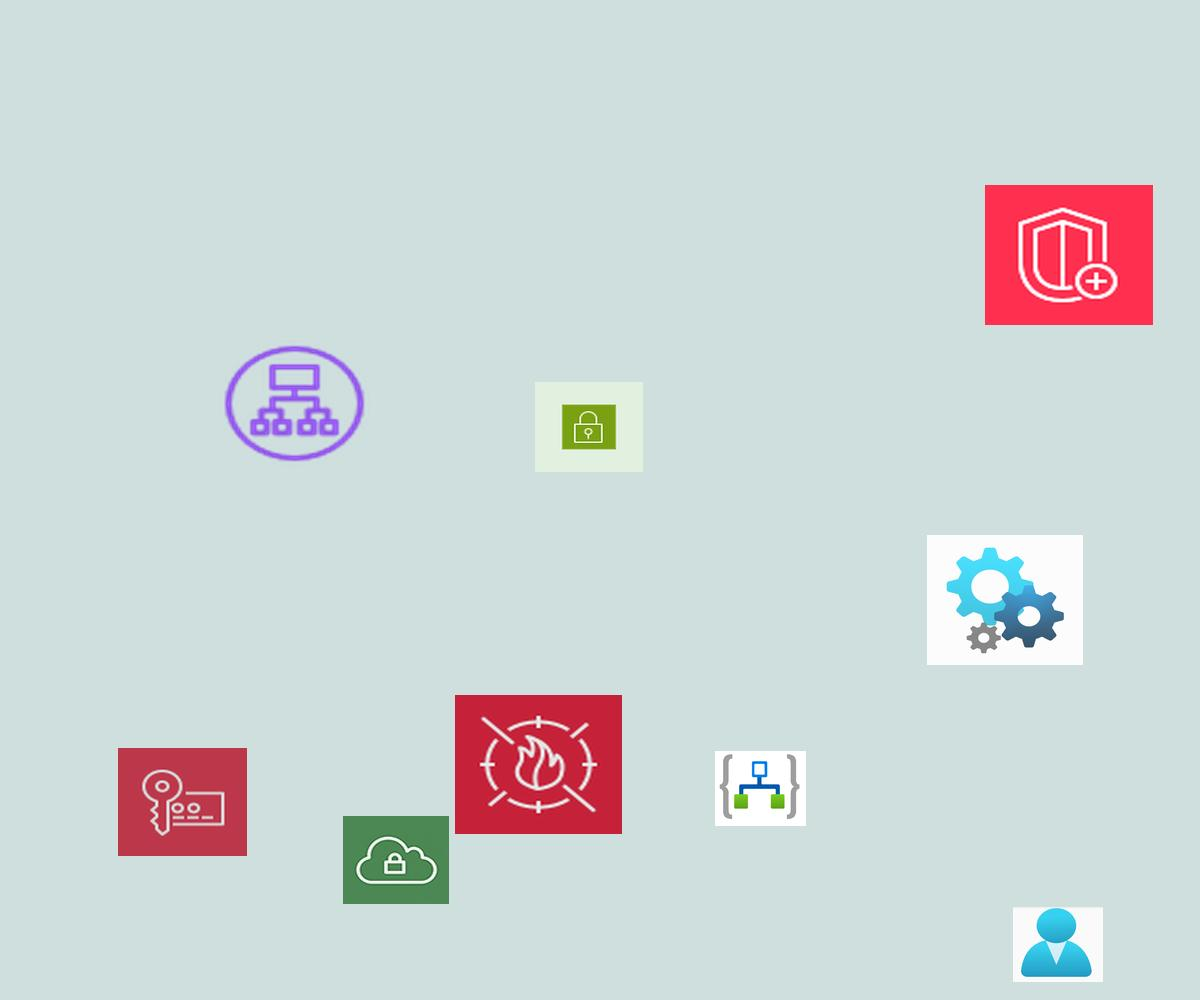AWS-Key-Management-Service: (118, 748, 247, 856)
AWS-Private_vpc: (343, 816, 449, 904)
AWS-Public-subnet: (535, 382, 643, 472)
AWS-Res_Elastic-Load-Balancing_Application-Load-Balancer: (219, 341, 370, 466)
AWS-Shield: (985, 185, 1153, 325)
AWS-WAF: (455, 695, 622, 834)
Azure_api: (927, 535, 1083, 665)
Azure_integration-204-Logic-Apps: (715, 751, 806, 826)
Azure_users: (1013, 907, 1103, 982)
